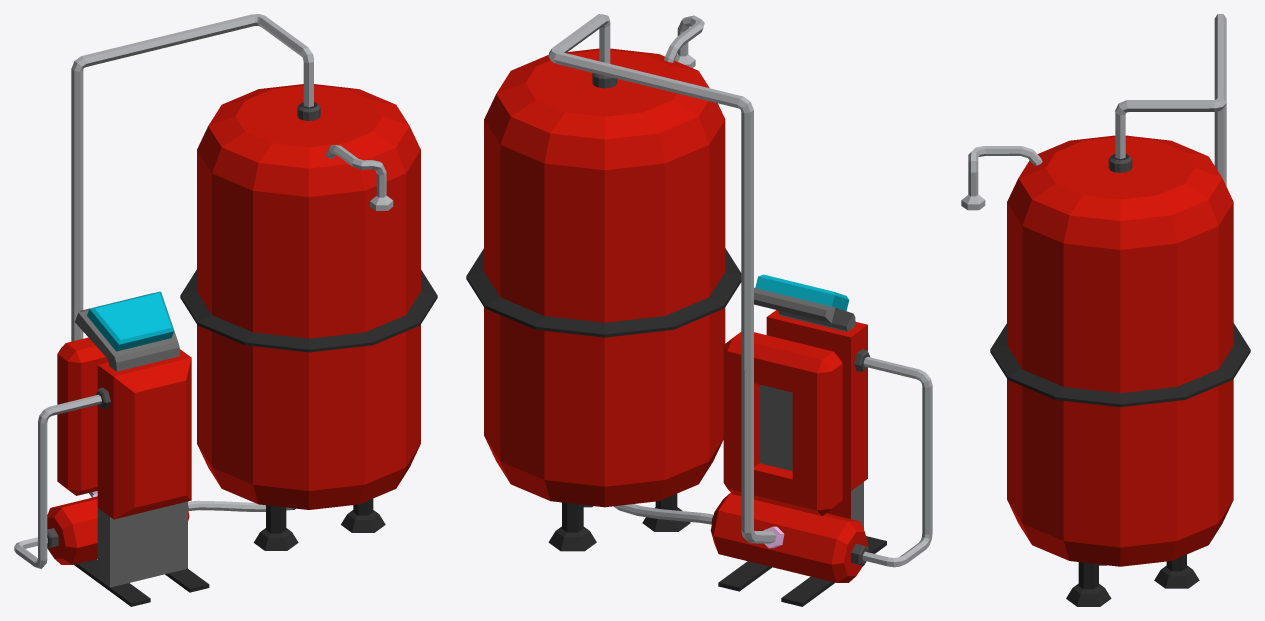
File: ExpansionAutomat.fbx
The picture shows the model from 3 angles, left to right: view 1: azimuth 30°, elevation 25°; view 2: azimuth 150°, elevation 25°; view 3: azimuth 270°, elevation 25°; orthographic projection. The views are drawn at different scales.
Parts seen in each view (by area): view 1: ExpansionAutomat; view 2: ExpansionAutomat; view 3: ExpansionAutomat.
Boxes of the visible parts, left/top/right/bottom form: ExpansionAutomat: left=14, top=14, right=437, bottom=606; ExpansionAutomat: left=466, top=14, right=932, bottom=606; ExpansionAutomat: left=961, top=14, right=1250, bottom=606.
Bounding box in the file's own units: 104 × 117 × 64.36.
